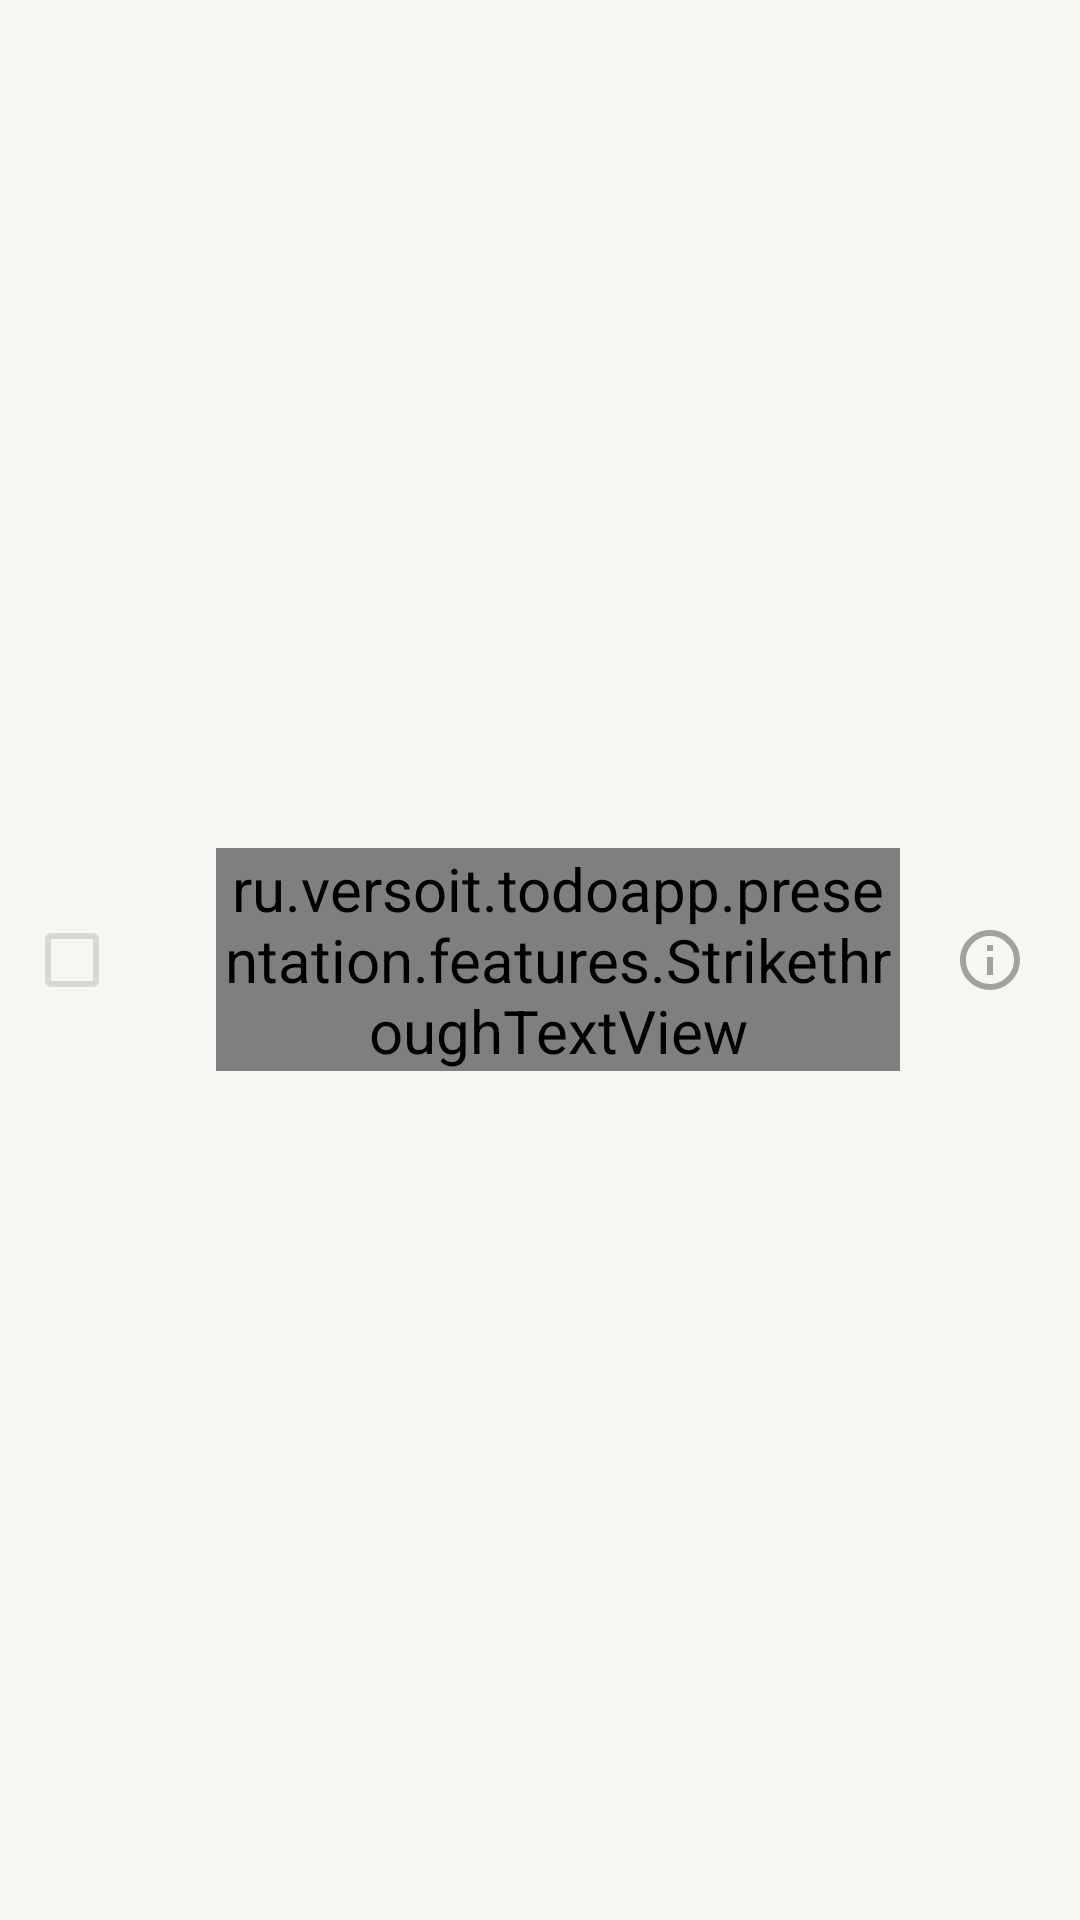

Named icons in this screenshot (1080px×1920px) and their bounding boxes, {"left": x1, "top": y1, "right": x2, "bottom": y2}:
Info: {"left": 960, "top": 930, "right": 1020, "bottom": 990}
